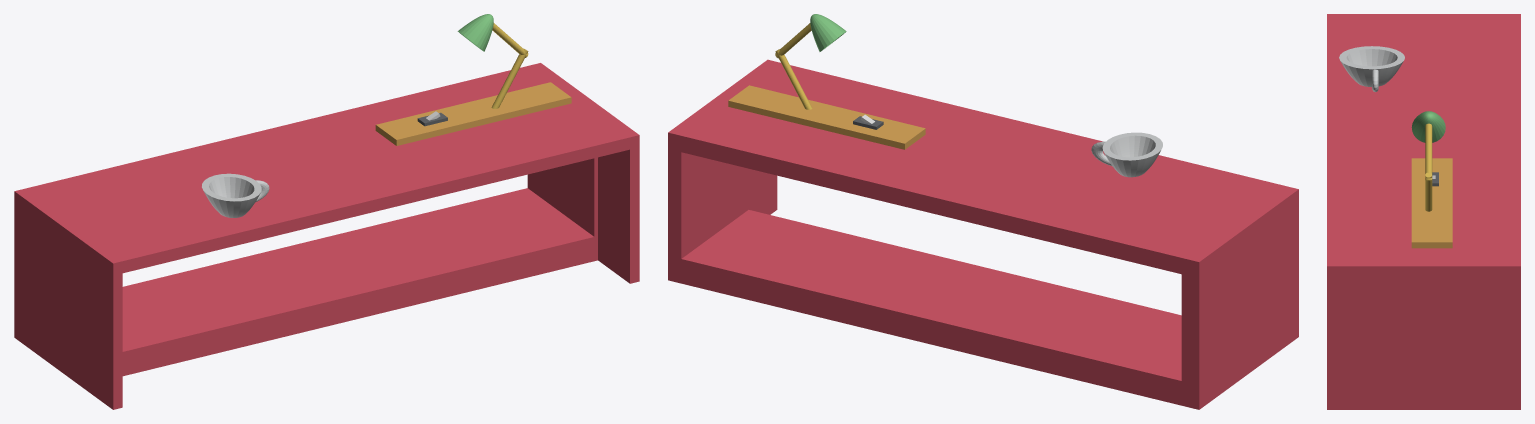
Rendered from shapes.glb.
The picture shows the model from 3 angles, left to right: view 1: azimuth 30°, elevation 25°; view 2: azimuth 150°, elevation 25°; view 3: azimuth 270°, elevation 25°; orthographic projection. The views are drawn at different scales.
Parts seen in each view (by area): view 1: Mesh_Mesh_head_geo.001_lambert2SG.001; view 2: Mesh_Mesh_head_geo.001_lambert2SG.001; view 3: Mesh_Mesh_head_geo.001_lambert2SG.001.
Boxes of the visible parts, x1,y1,x2,y2 form: Mesh_Mesh_head_geo.001_lambert2SG.001: [14, 14, 639, 409]; Mesh_Mesh_head_geo.001_lambert2SG.001: [668, 14, 1298, 409]; Mesh_Mesh_head_geo.001_lambert2SG.001: [1327, 14, 1520, 409].
Bounding box in the file's own units: 90.26 × 41.52 × 29.33.
